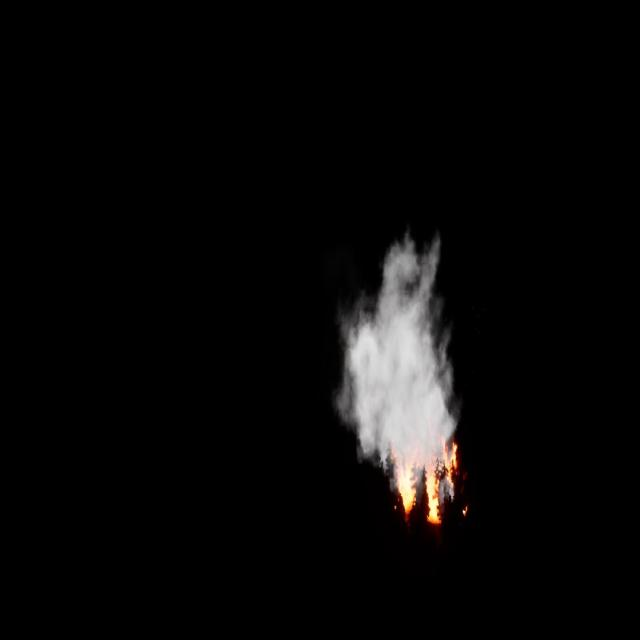fire: (388, 438, 464, 527)
smoke: (332, 231, 454, 474)
